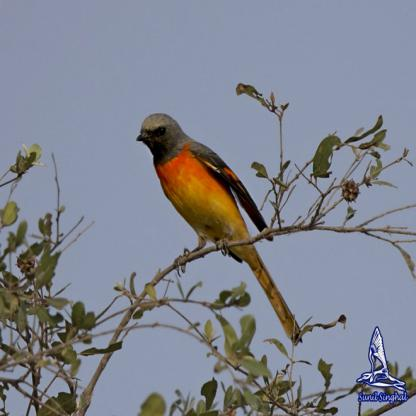Burung: (135, 112, 302, 344)
